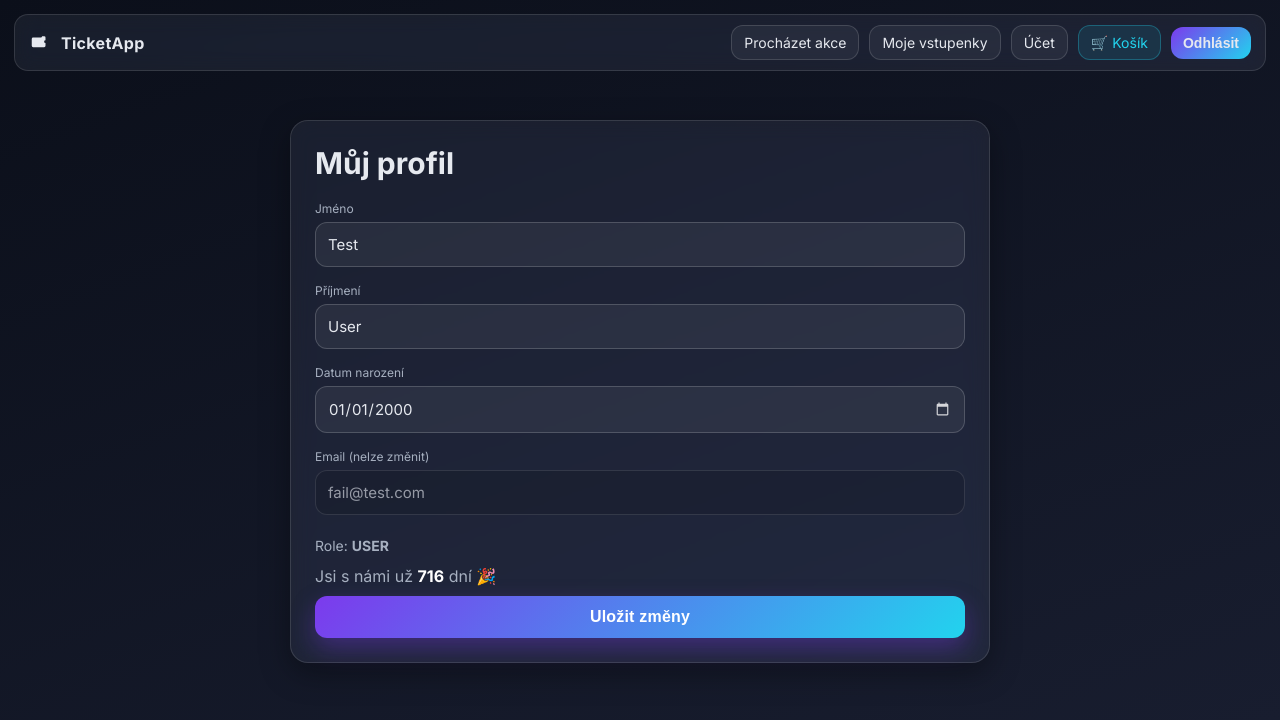
Scenario: Uživatelský profil a nastavení › Zobrazení chyby při selhání ukládání
The image size is (1280, 720).
# Zkusíme něco změnit
Replace the text in the 1st field with "Fail": (640, 245) [315,222,965,267]
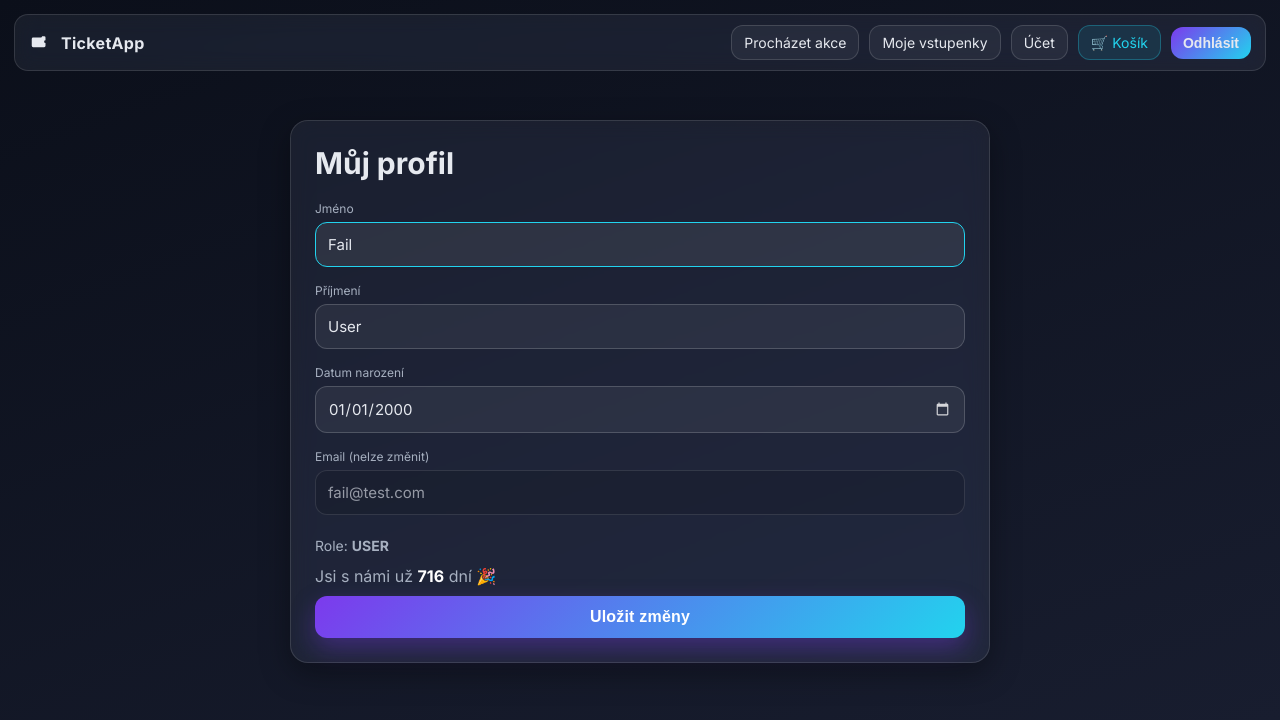
Click the button "Uložit změny": click(640, 617) [315,596,965,638]
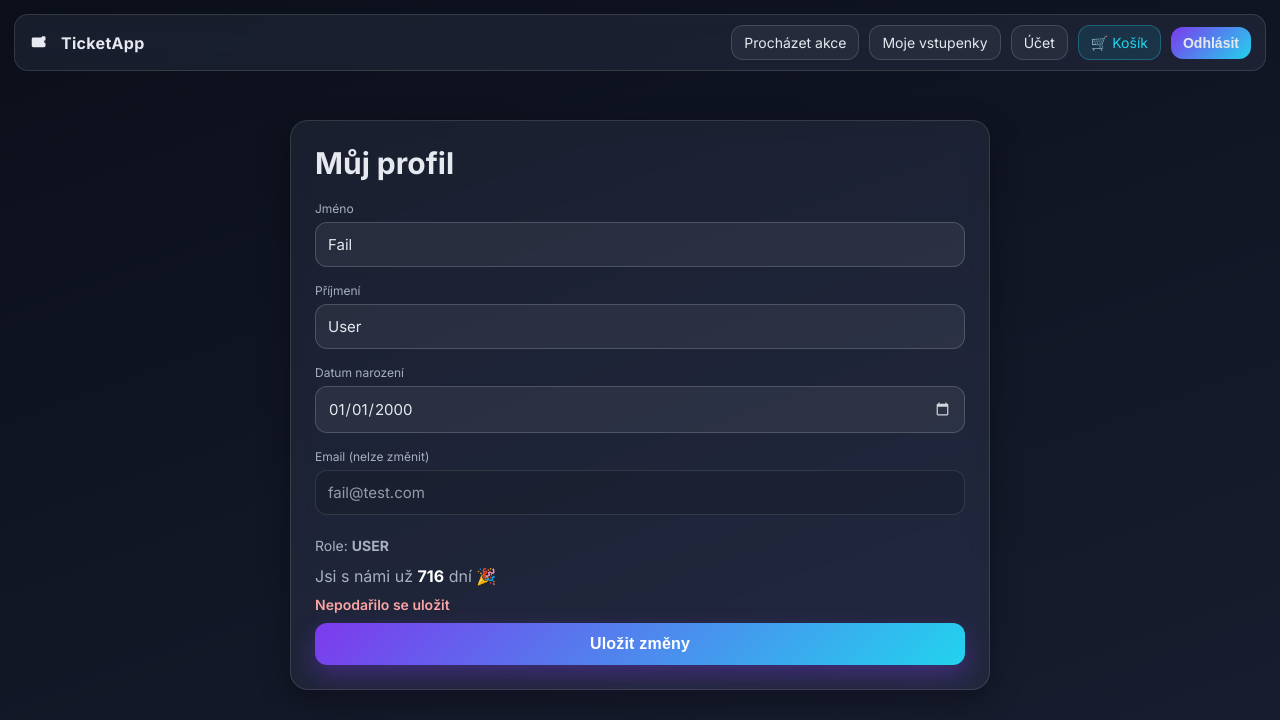
Check: the text "Nepodařilo se uložit" is shown, box [315,596,450,613]
